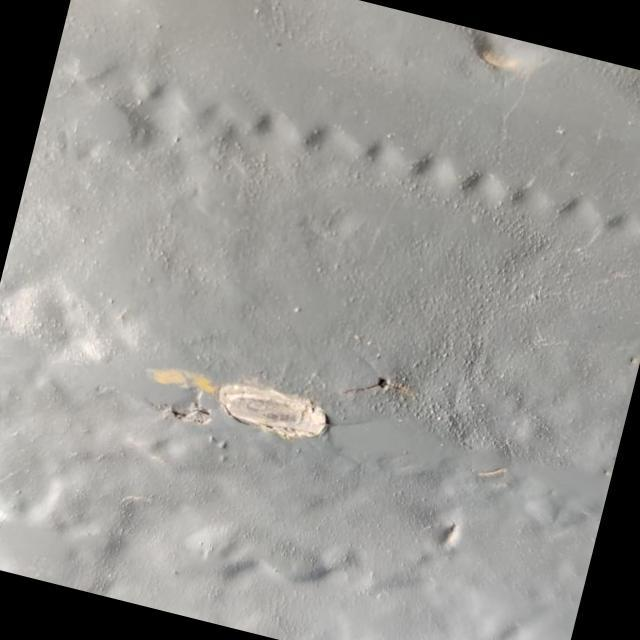Rupture: (329, 354, 426, 421)
